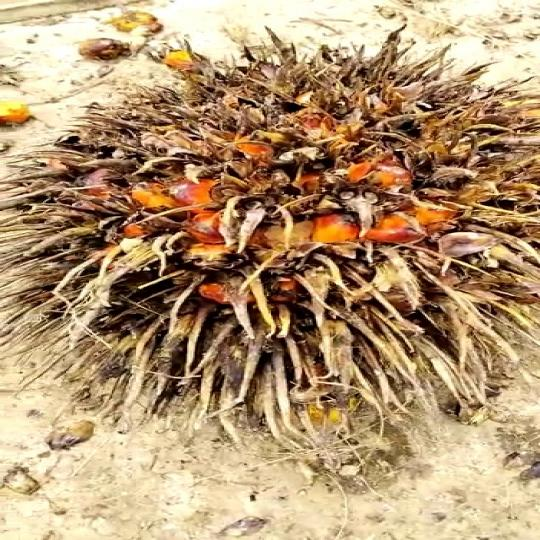terlalu masak: (41, 46, 540, 460)
